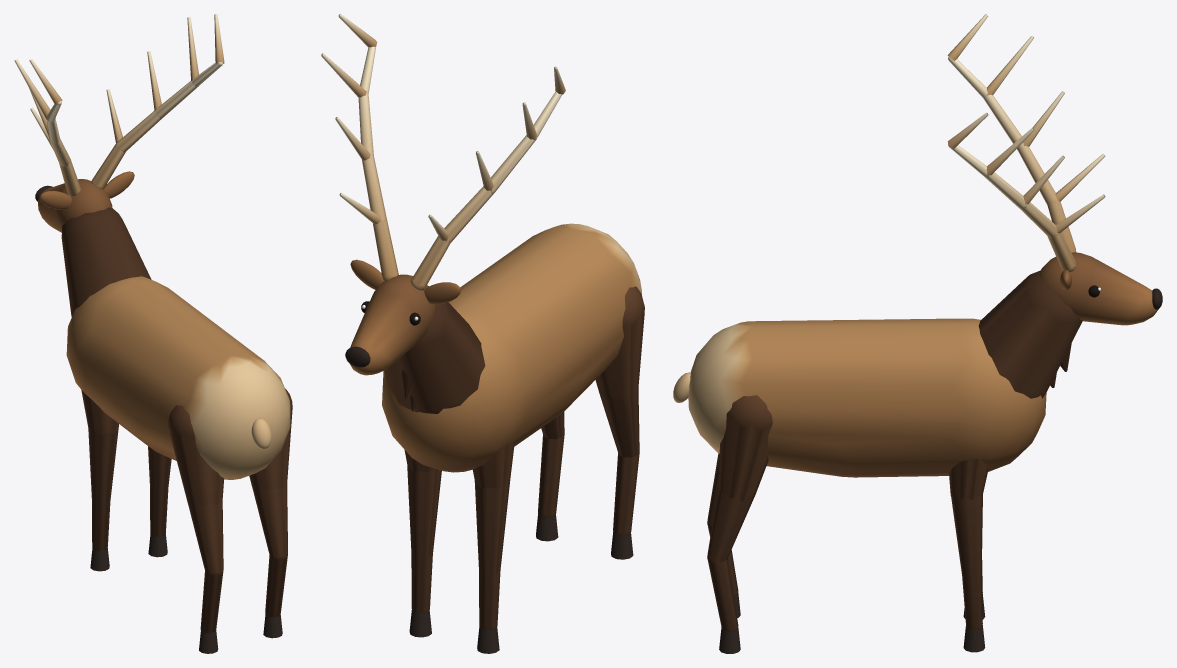
File: Elk.glb
3 views of the same model, side by side, from view 1: azimuth 30°, elevation 25°; view 2: azimuth 150°, elevation 25°; view 3: azimuth 270°, elevation 25° (orthographic). The views are drawn at different scales.
Parts seen in each view (by area): view 1: Body, Head, LegBL, LegBR, LegFL, LegFR, Tail; view 2: Body, Head, LegBL, LegFL, LegFR, LegBR; view 3: Body, Head, LegBR, LegFR, LegBL.
Part boxes in pixels (bbox=[...]): Body: bbox=[61, 207, 290, 479]; Head: bbox=[14, 14, 224, 232]; LegBL: bbox=[168, 405, 223, 653]; LegBR: bbox=[249, 388, 292, 638]; LegFL: bbox=[81, 389, 118, 571]; LegFR: bbox=[148, 446, 171, 557]; Tail: bbox=[251, 418, 271, 449]; Body: bbox=[382, 223, 641, 472]; Head: bbox=[321, 14, 565, 375]; LegBL: bbox=[595, 286, 644, 559]; LegFL: bbox=[473, 441, 514, 653]; LegFR: bbox=[404, 449, 441, 637]; LegBR: bbox=[536, 412, 564, 541]; Body: bbox=[688, 270, 1082, 477]; Head: bbox=[947, 14, 1162, 325]; LegBR: bbox=[707, 395, 772, 653]; LegFR: bbox=[949, 459, 988, 652]; LegBL: bbox=[707, 453, 740, 617].
Size of the model in its own units: 4.67 by 12.32 by 9.61.
Materials: 1 (1 with a texture image).
